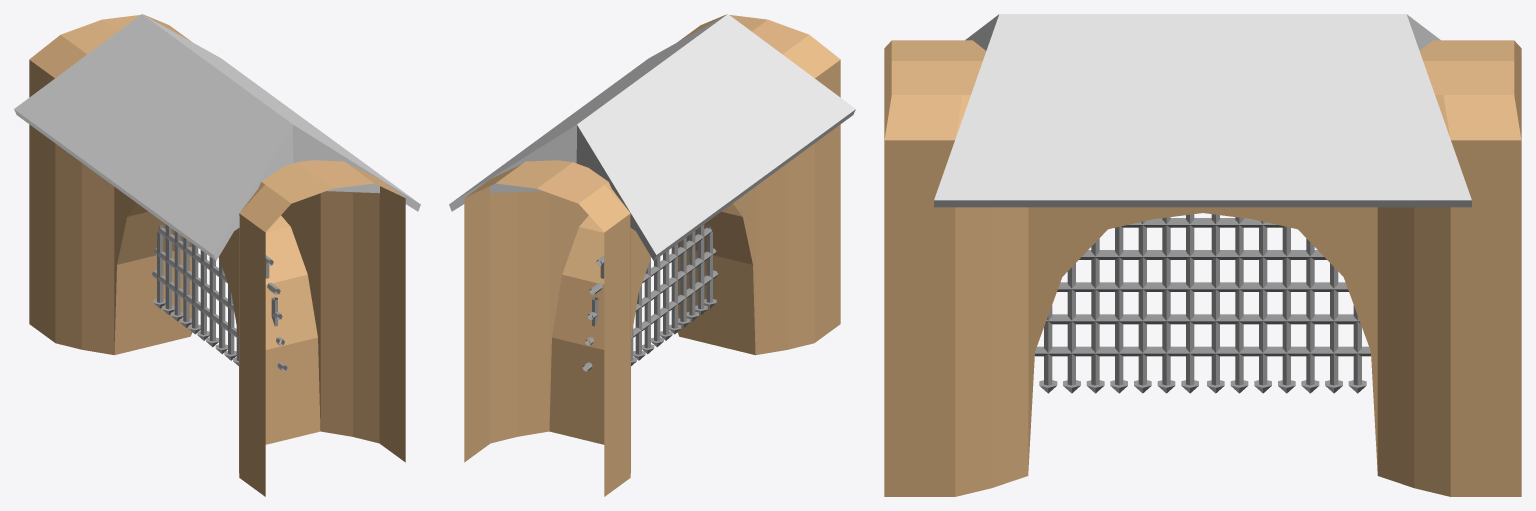
The model's file is WallDoor.fbx.
3 views of the same model, side by side, from view 1: azimuth 30°, elevation 25°; view 2: azimuth 150°, elevation 25°; view 3: azimuth 270°, elevation 25° (orthographic). The views are drawn at different scales.
Parts seen in each view (by area): view 1: WallDoorBody, WallDoorRoof, Barrotes; view 2: WallDoorBody, WallDoorRoof, Barrotes; view 3: WallDoorBody, WallDoorRoof, Barrotes.
Boxes of the visible parts, bbox=[...] form: WallDoorBody: bbox=[29, 14, 405, 496]; WallDoorRoof: bbox=[14, 14, 420, 260]; Barrotes: bbox=[151, 224, 287, 371]; WallDoorBody: bbox=[464, 14, 840, 496]; WallDoorRoof: bbox=[449, 14, 855, 260]; Barrotes: bbox=[582, 224, 718, 371]; WallDoorBody: bbox=[884, 40, 1521, 496]; WallDoorRoof: bbox=[934, 14, 1471, 207]; Barrotes: bbox=[1035, 214, 1370, 393].
Size of what is drawn, in the model's own units: 273 by 408 by 539.
